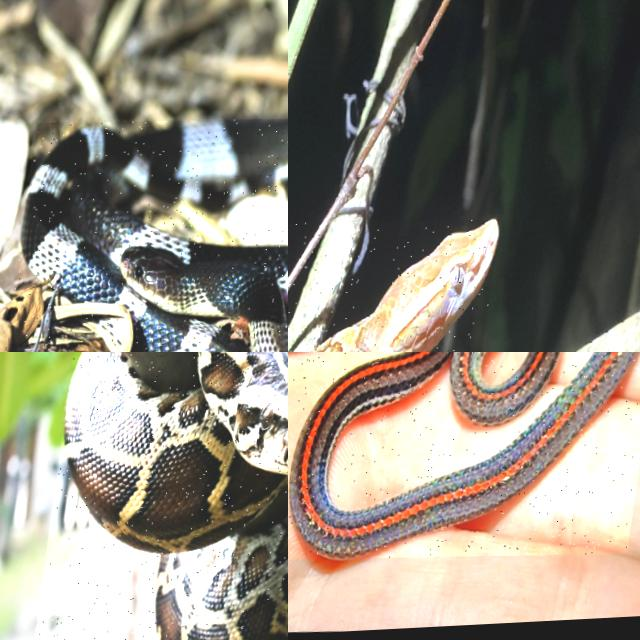Bungarus candidus: (22, 120, 287, 351)
Calliophis intestinalis: (290, 352, 636, 558)
Calloselasma rhodostoma: (316, 221, 498, 351)
Python bivittatus: (65, 352, 287, 639)
